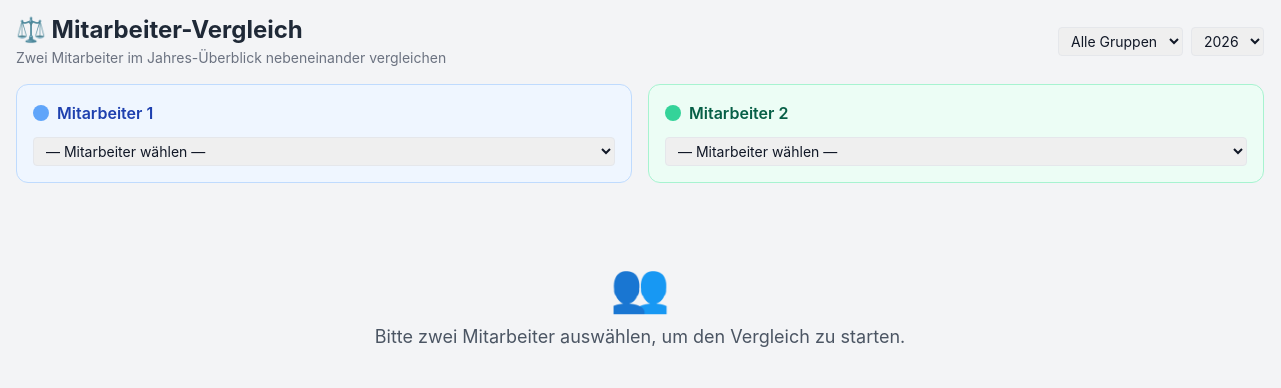
Scenario: MitarbeiterVergleich — Employee Comparison View › shows shortname of selected employee in selector card
Select "Müller, Anna" in the dropdown below "Mitarbeiter 1" at (324, 152), box [33,137,615,166]
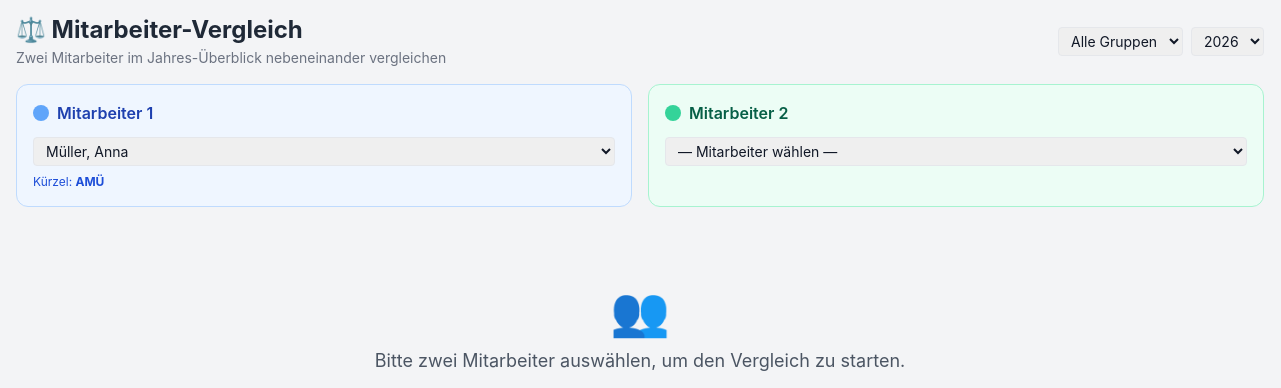
Expected: the text "AMÜ" is shown, [76,174,104,189]
